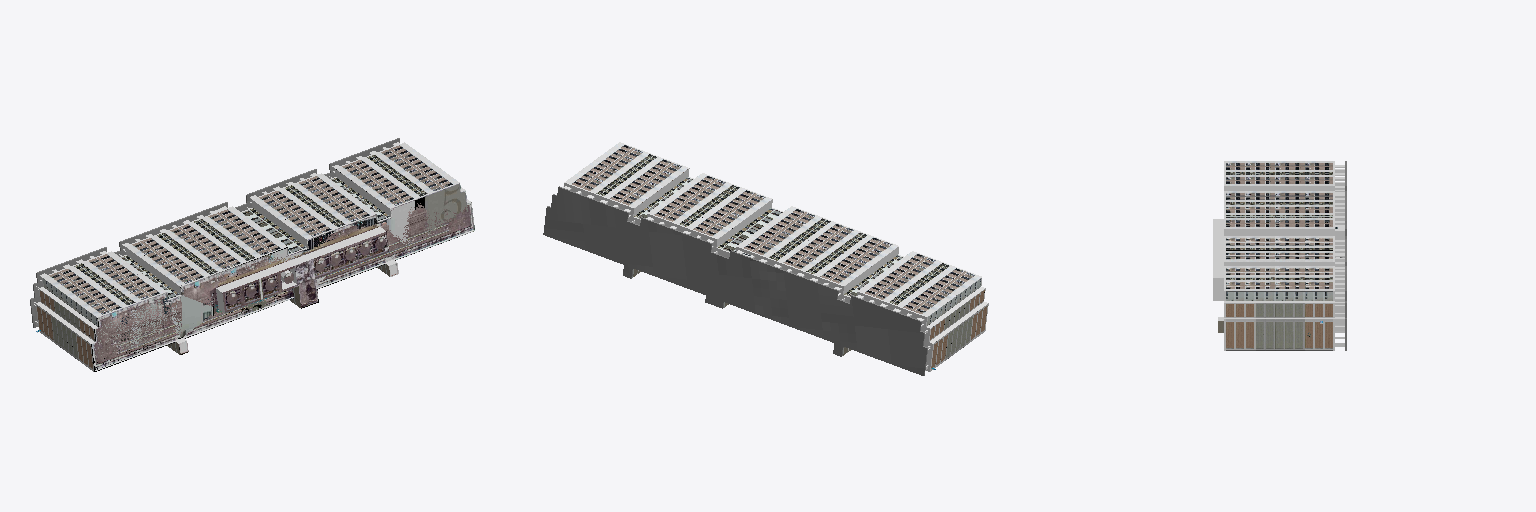
The picture shows the model from 3 angles: view 1: azimuth 30°, elevation 25°; view 2: azimuth 150°, elevation 25°; view 3: azimuth 270°, elevation 25°; orthographic projection.
Visible parts, largest first — view 1: polygon.829; view 2: polygon.829; view 3: polygon.829.
Boxes of the visible parts, x1=… form: polygon.829: x1=30, y1=138, x2=474, y2=371; polygon.829: x1=543, y1=142, x2=988, y2=375; polygon.829: x1=1213, y1=161, x2=1346, y2=350.
Bounding box in the file's own units: 125 × 31.31 × 37.61.
Materials: 1 (1 with a texture image).